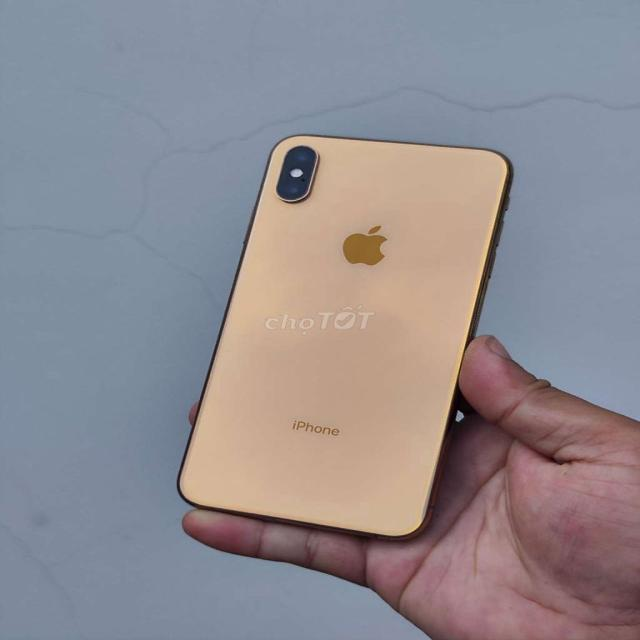gen_x_xs: (180, 136, 512, 538)
